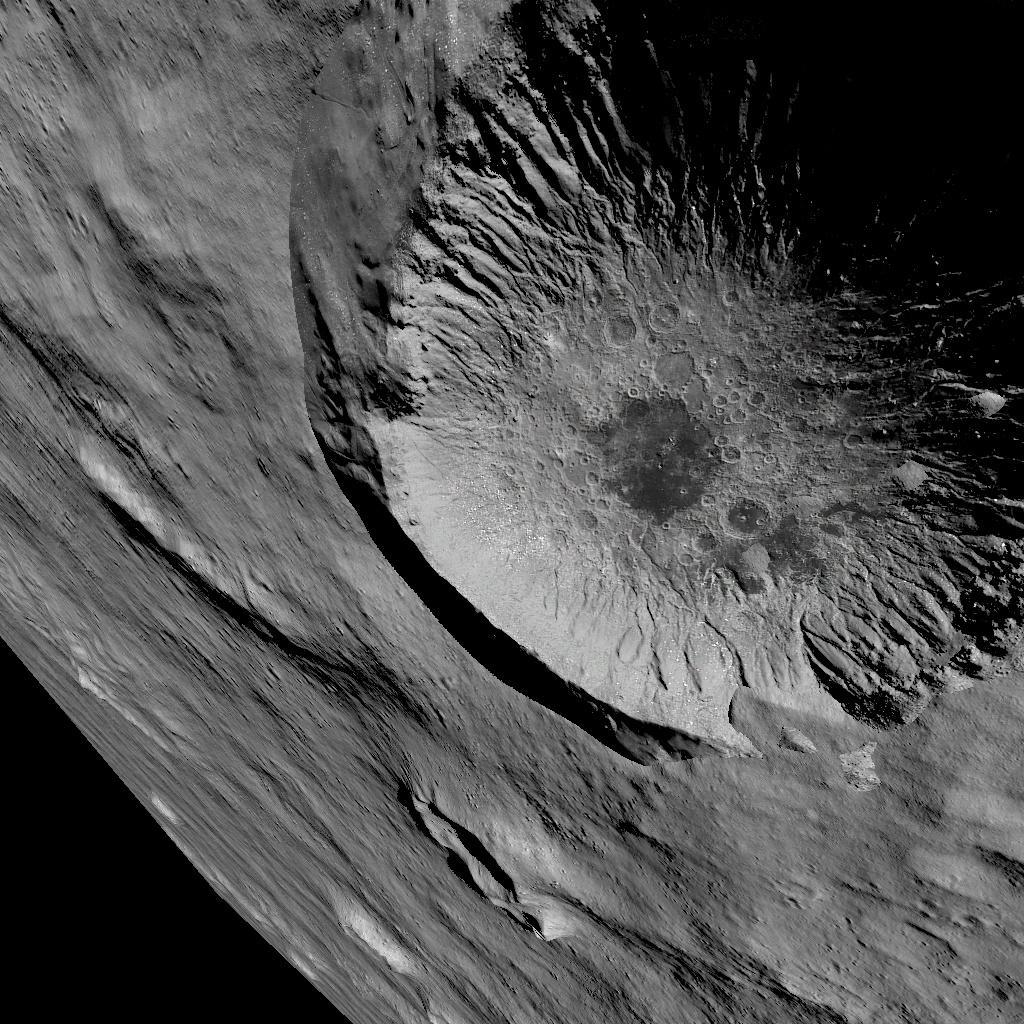Crater: (275, 0, 1024, 759), (389, 792, 556, 938)
Plan surface: (597, 790, 1024, 1024)
